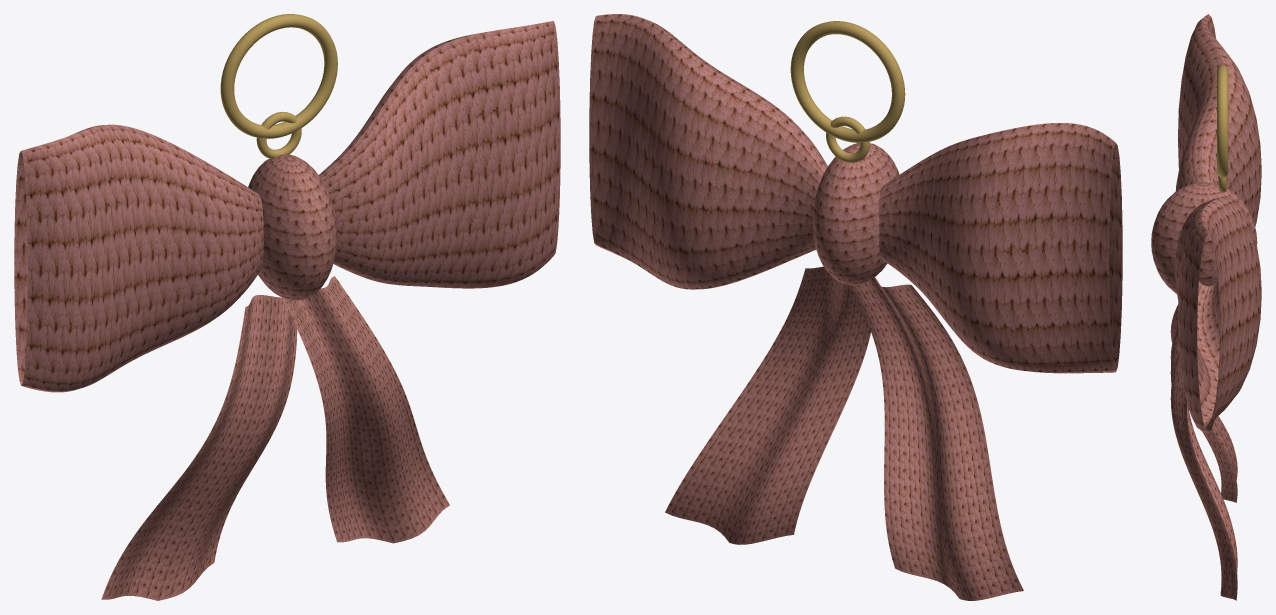
The picture shows the model from 3 angles, left to right: view 1: azimuth 30°, elevation 25°; view 2: azimuth 150°, elevation 25°; view 3: azimuth 270°, elevation 25°; orthographic projection. The views are drawn at different scales.
Size of the model in its own units: 2.26 by 2.27 by 0.4797.
6 materials, 5 textured.
